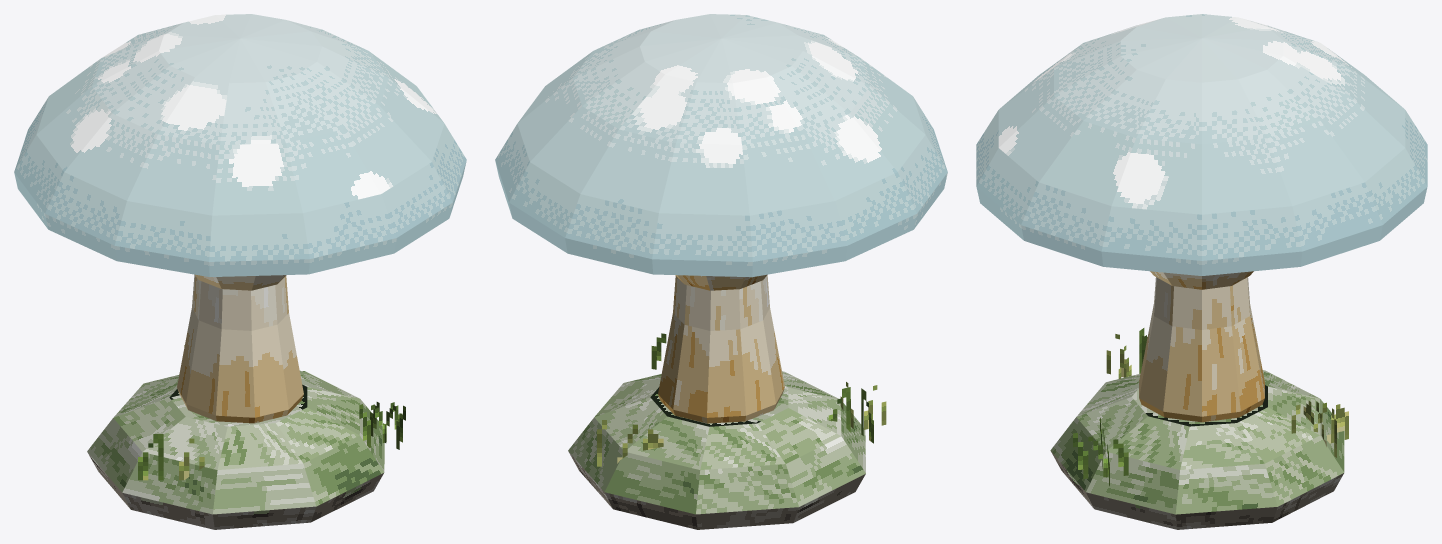
The model's file is mushroomlamp.glb.
3 renders of one model, left to right at view 1: azimuth 30°, elevation 25°; view 2: azimuth 150°, elevation 25°; view 3: azimuth 270°, elevation 25°, orthographic.
Visible parts, largest first — view 1: glow_cap, rock, stem, tuft1_1, ring, tuft0_0, tuft0_1; view 2: glow_cap, rock, stem, ring, tuft2_1, tuft1_0; view 3: glow_cap, rock, stem, ring, tuft0_1, tuft2_0.
Part boxes in pixels (x1,y1,x2,y2): glow_cap: (14, 14, 466, 276); rock: (87, 370, 384, 529); stem: (177, 275, 303, 423); tuft1_1: (138, 434, 204, 480); ring: (195, 274, 286, 290); tuft0_0: (359, 402, 402, 447); tuft0_1: (370, 402, 405, 449); glow_cap: (495, 14, 947, 277); rock: (568, 371, 865, 529); stem: (658, 275, 784, 423); ring: (675, 274, 767, 290); tuft2_1: (597, 420, 663, 466); tuft1_0: (828, 385, 886, 432); glow_cap: (976, 14, 1427, 275); rock: (1050, 370, 1344, 529); stem: (1139, 277, 1264, 422); ring: (1150, 271, 1253, 289); tuft0_1: (1073, 433, 1128, 478); tuft2_0: (1291, 402, 1348, 443).
Bounding box in the file's own units: 0.7625 × 0.8063 × 0.7625.
3 materials, 3 textured.
